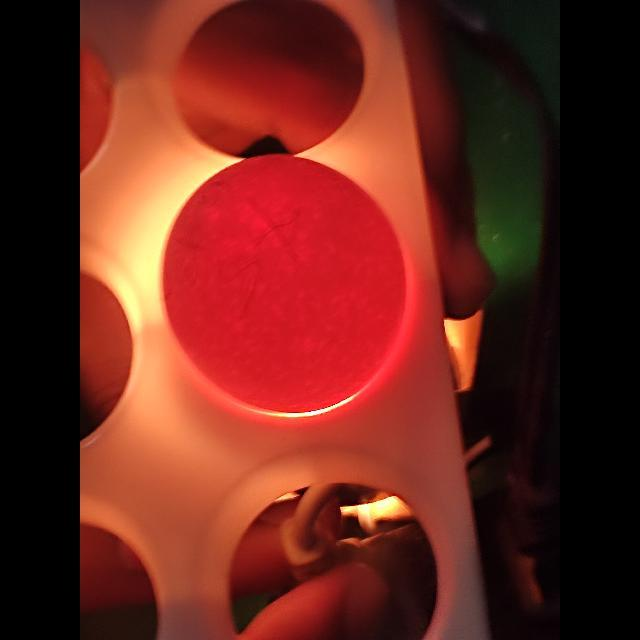Infertile: (157, 148, 410, 416)
